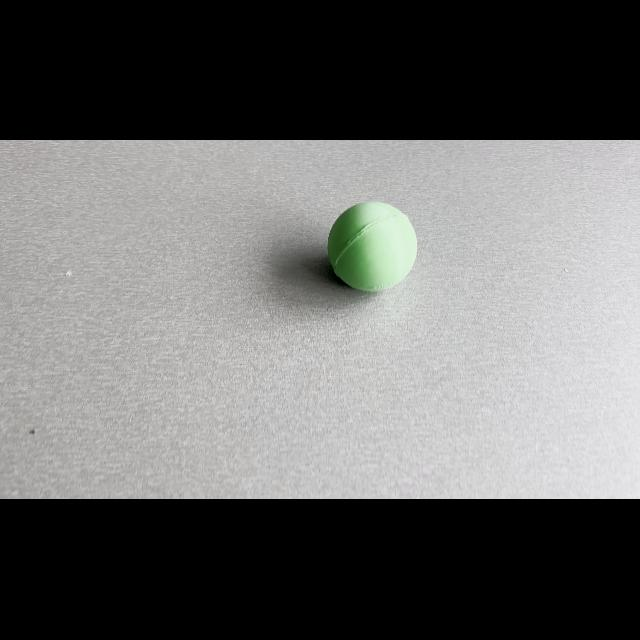objects: (320, 191, 424, 297)
